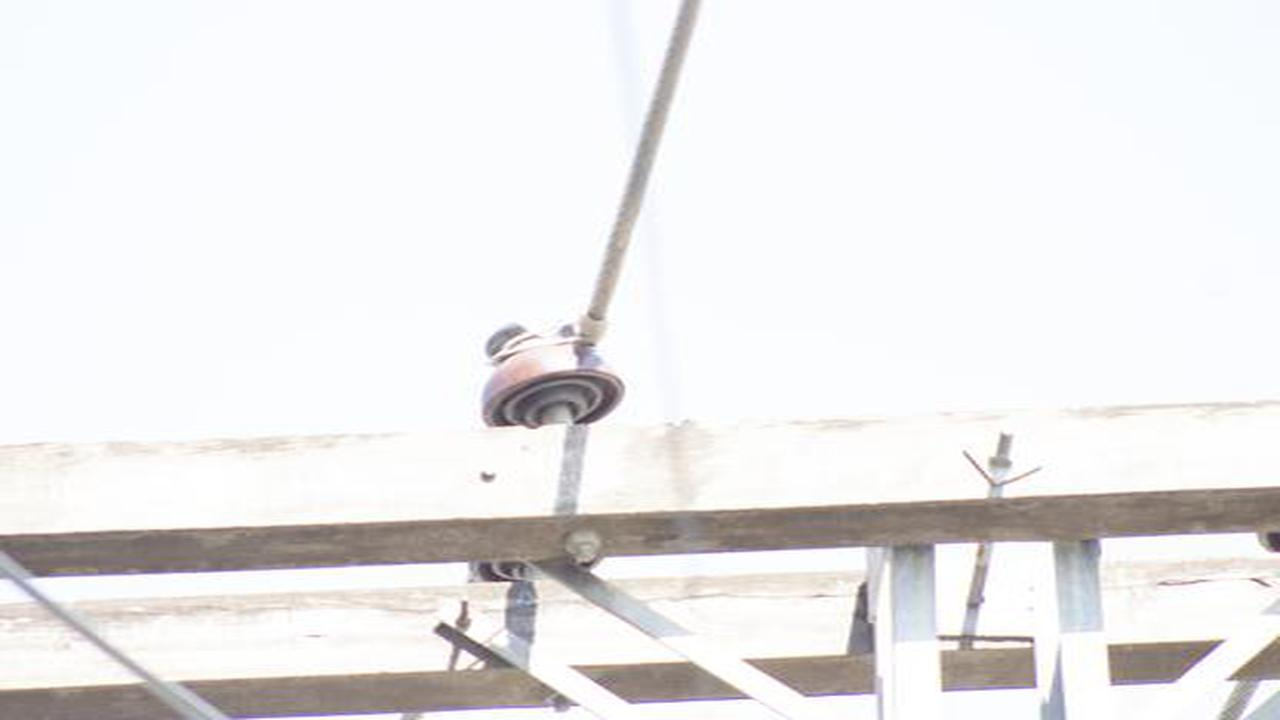insulator_pin: (473, 316, 629, 430)
